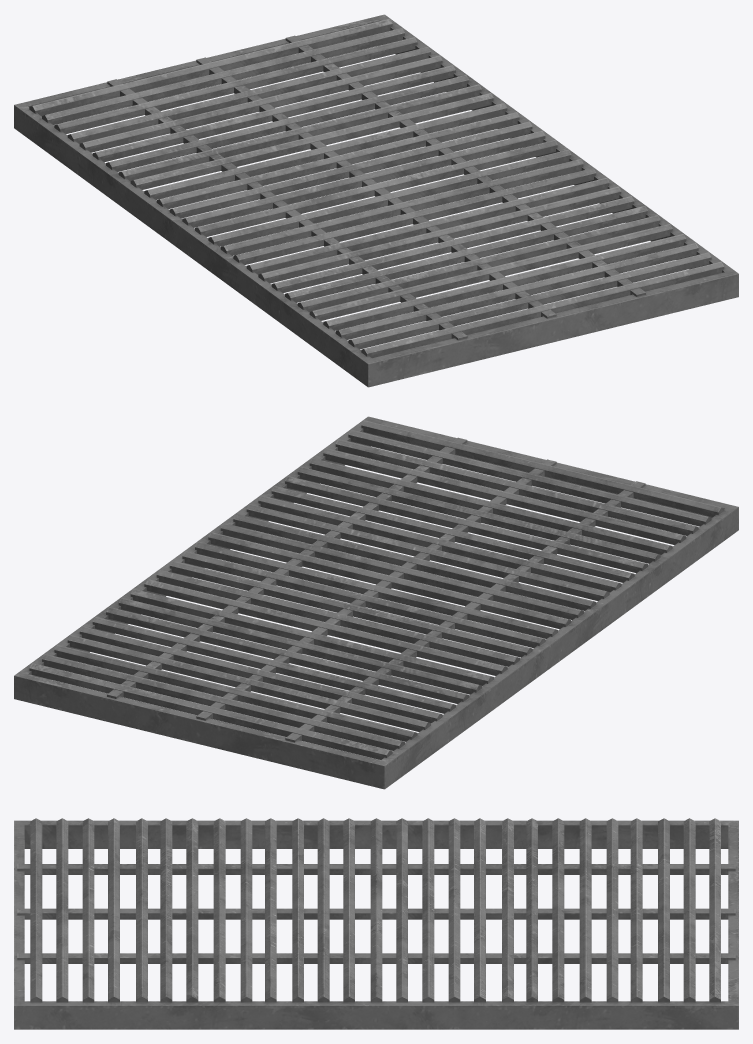
File: reji.glb
3 renders of one model, top to bottom at view 1: azimuth 30°, elevation 25°; view 2: azimuth 150°, elevation 25°; view 3: azimuth 270°, elevation 25°, orthographic. The views are drawn at different scales.
Visible parts, largest first — view 1: MetalGrate; view 2: MetalGrate; view 3: MetalGrate.
Boxes of the visible parts, x1=… form: MetalGrate: x1=14, y1=14, x2=738, y2=387; MetalGrate: x1=14, y1=416, x2=738, y2=789; MetalGrate: x1=14, y1=818, x2=738, y2=1029.
Bounding box in the file's own units: 133 × 9.99 × 220.
1 material, 1 textured.
